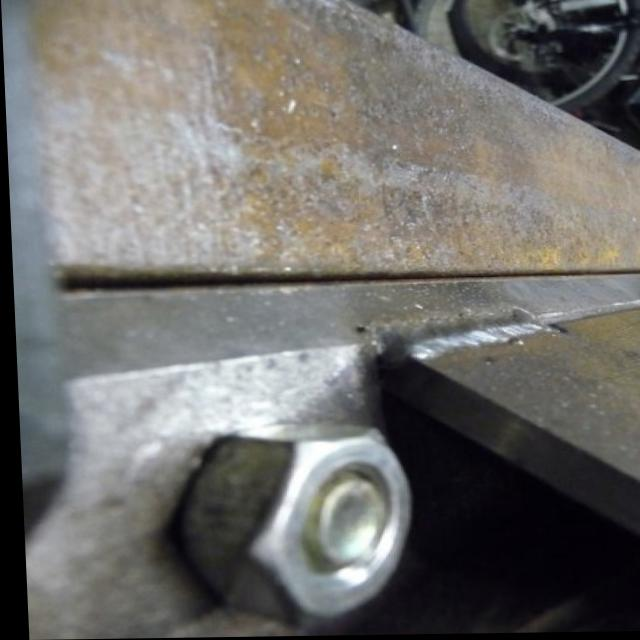Regular bolt: (182, 425, 411, 634)
